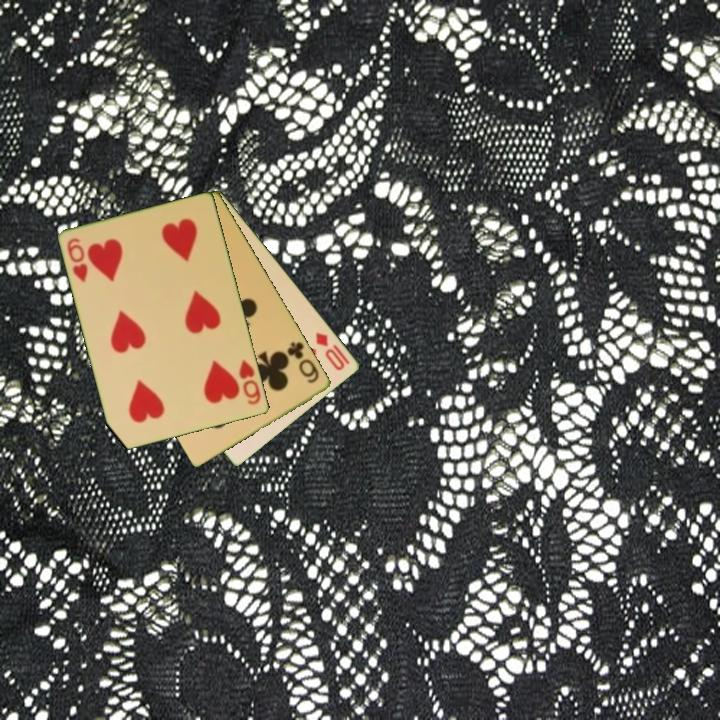10d: (312, 328, 348, 374)
6c: (284, 338, 322, 386)
6h: (236, 356, 264, 408), (64, 234, 91, 285)
